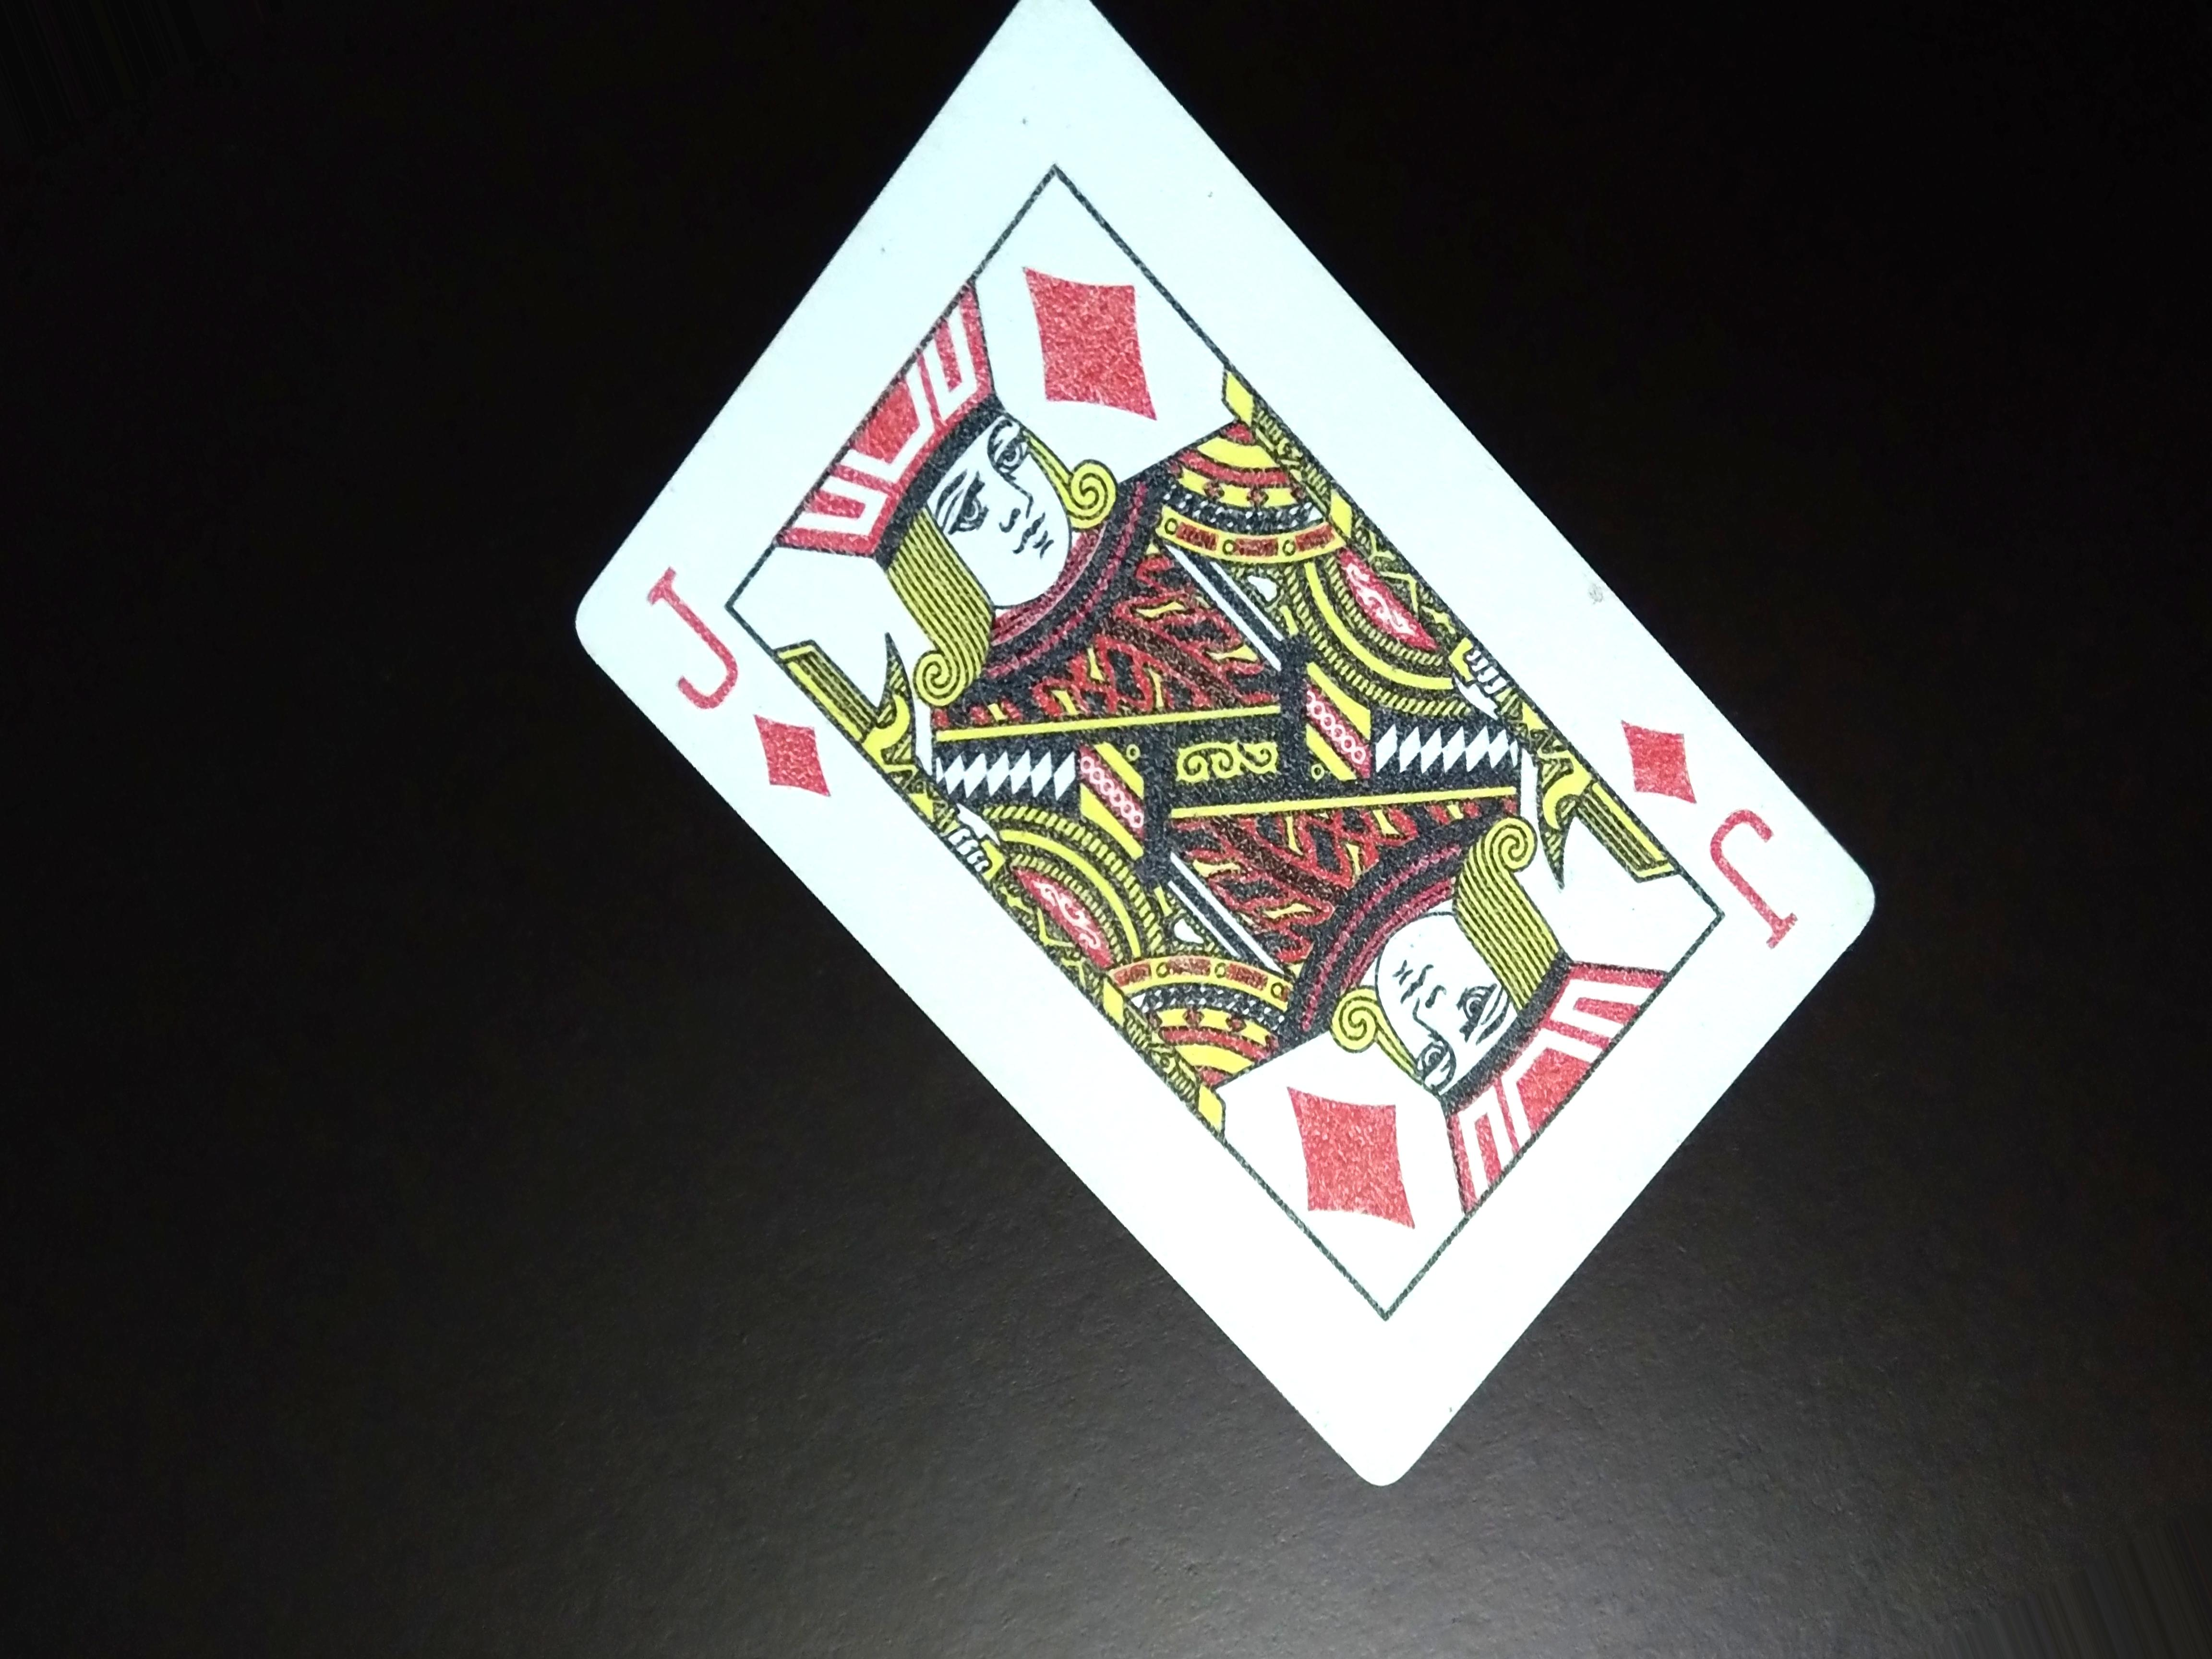JD: (637, 572, 829, 823)
